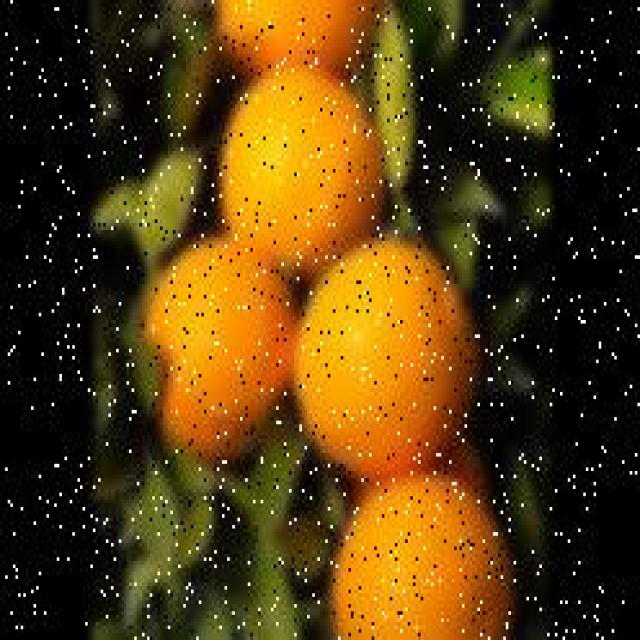orange: (296, 237, 480, 481), (142, 234, 303, 464), (218, 64, 384, 275), (331, 481, 511, 640), (216, 0, 372, 81)
